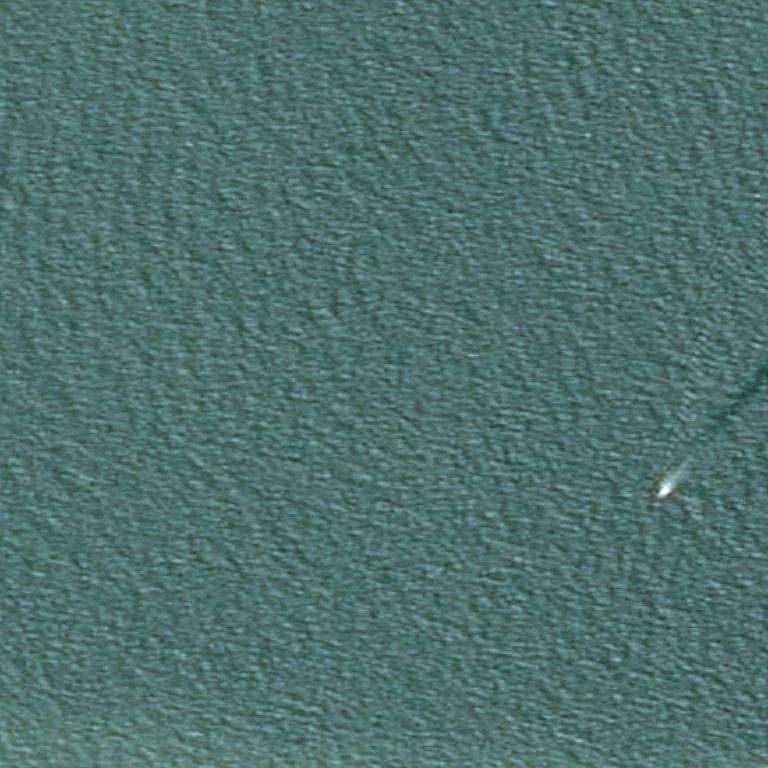ship: (653, 485, 672, 505)
